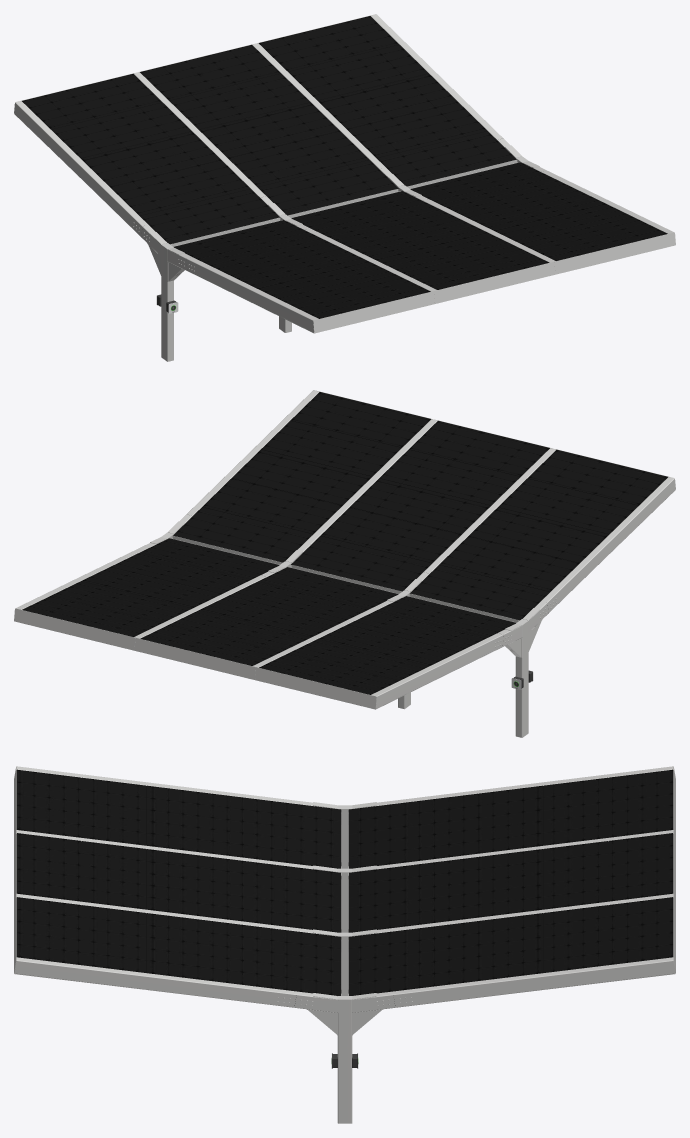
Rendered from Pac_6.glb.
The picture shows the model from 3 angles, top to bottom: view 1: azimuth 30°, elevation 25°; view 2: azimuth 150°, elevation 25°; view 3: azimuth 270°, elevation 25°; orthographic projection. The views are drawn at different scales.
Visible parts, largest first — view 1: Left.137, Left.122, Left.132, Left.113, Left.117, Left.140, Left.129; view 2: Left.137, Left.122, Left.132, Left.113, Left.117, Left.140, Left.129; view 3: Left.137, Left.122, Left.117, Left.132, Left.125, Left.113, Left.140, Plane.011.
Part boxes in pixels (x1=…): Left.137: x1=22, y1=45, x2=549, y2=318; Left.122: x1=259, y1=16, x2=667, y2=260; Left.132: x1=14, y1=72, x2=436, y2=332; Left.113: x1=14, y1=14, x2=675, y2=333; Left.117: x1=252, y1=14, x2=673, y2=262; Left.140: x1=161, y1=214, x2=291, y2=361; Left.129: x1=170, y1=189, x2=400, y2=246; Left.137: x1=140, y1=421, x2=667, y2=694; Left.122: x1=22, y1=392, x2=430, y2=636; Left.132: x1=252, y1=448, x2=675, y2=708; Left.113: x1=14, y1=390, x2=675, y2=709; Left.117: x1=16, y1=390, x2=437, y2=638; Left.140: x1=398, y1=590, x2=528, y2=737; Left.129: x1=289, y1=565, x2=519, y2=622; Left.137: x1=16, y1=769, x2=673, y2=932; Left.122: x1=16, y1=897, x2=673, y2=995; Left.117: x1=14, y1=893, x2=675, y2=1012; Left.132: x1=16, y1=766, x2=673, y2=869; Left.125: x1=337, y1=932, x2=352, y2=1123; Left.113: x1=14, y1=766, x2=675, y2=973; Left.140: x1=337, y1=805, x2=352, y2=932; Plane.011: x1=308, y1=1010, x2=381, y2=1034.
Bounding box in the file's own units: 8.1 × 3.15 × 11.57.
Materials: 6 (5 with a texture image).
